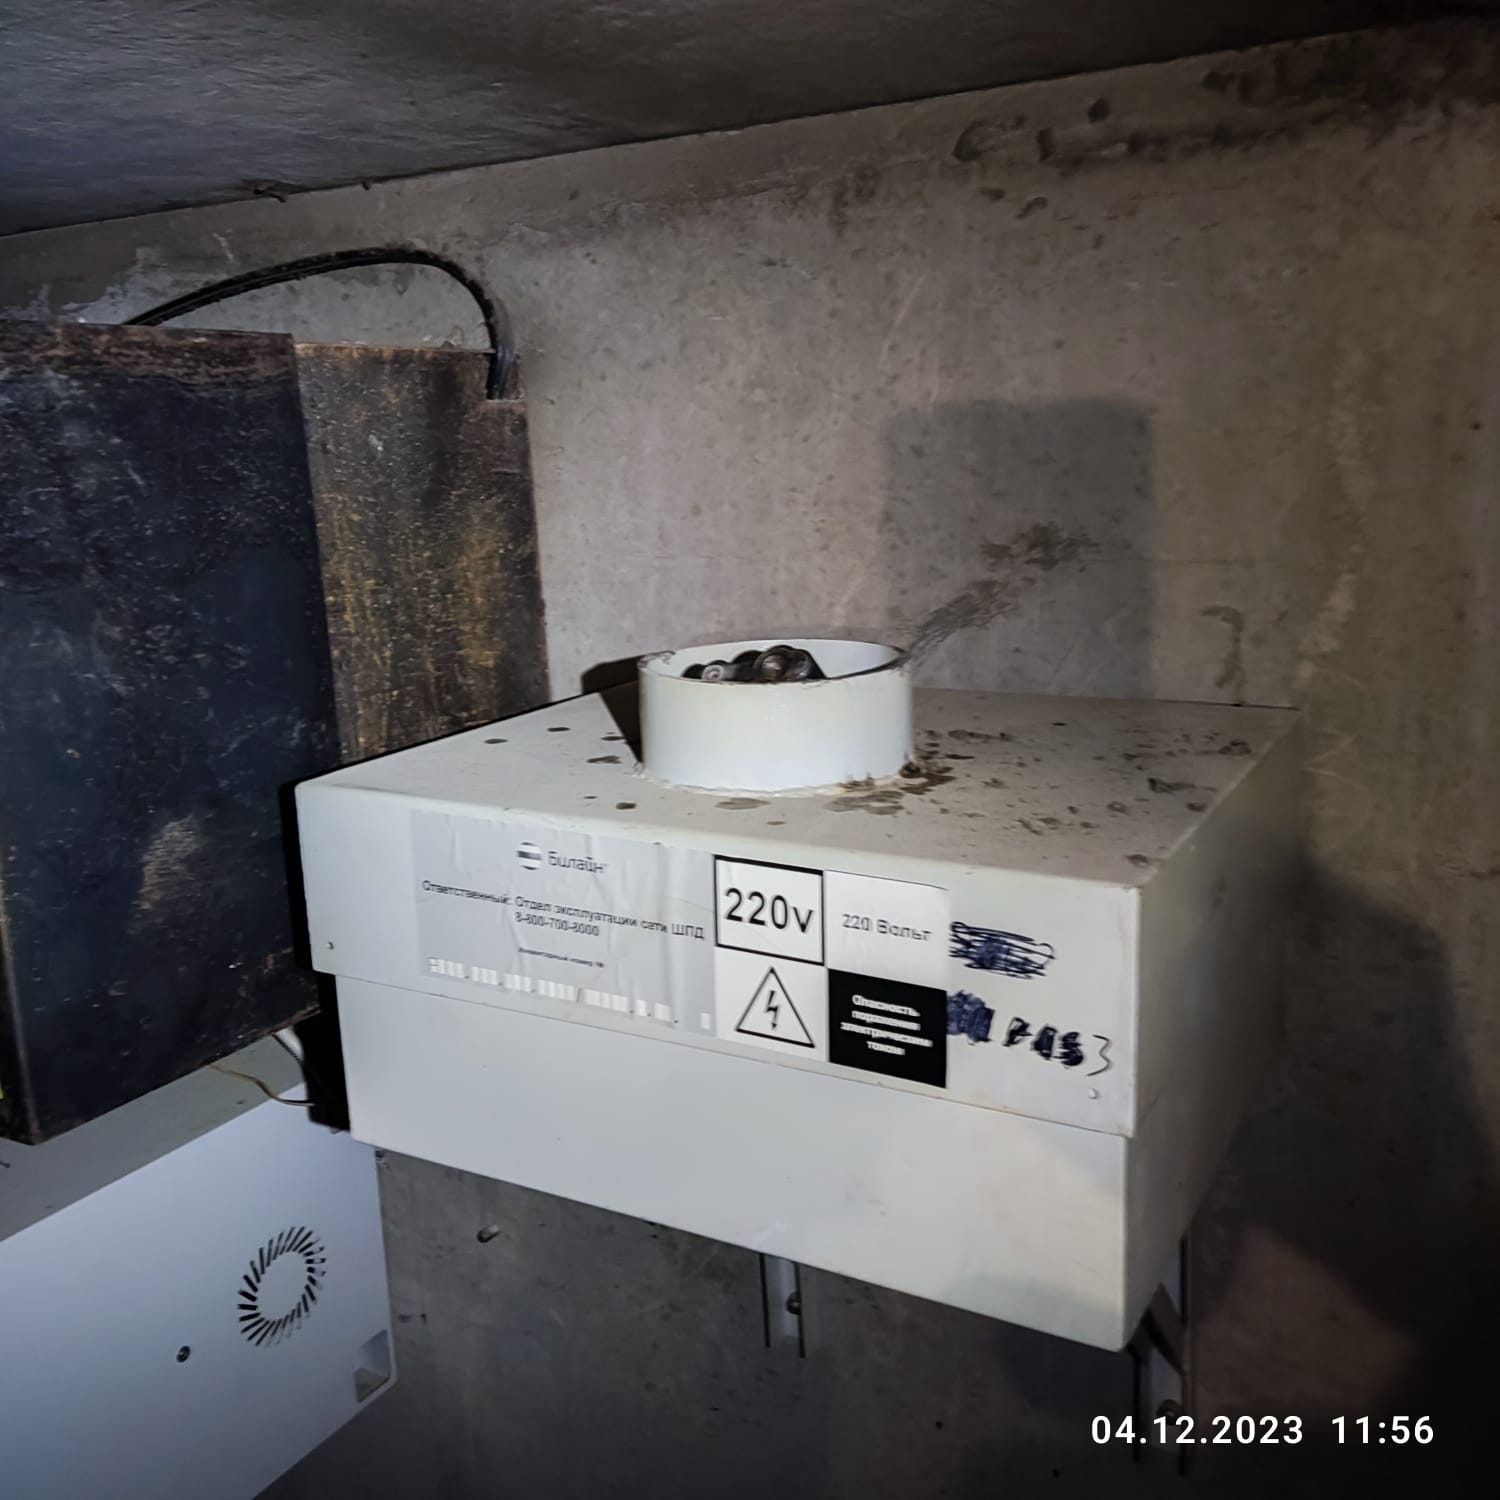shta-ps: (283, 613, 1341, 1365)
